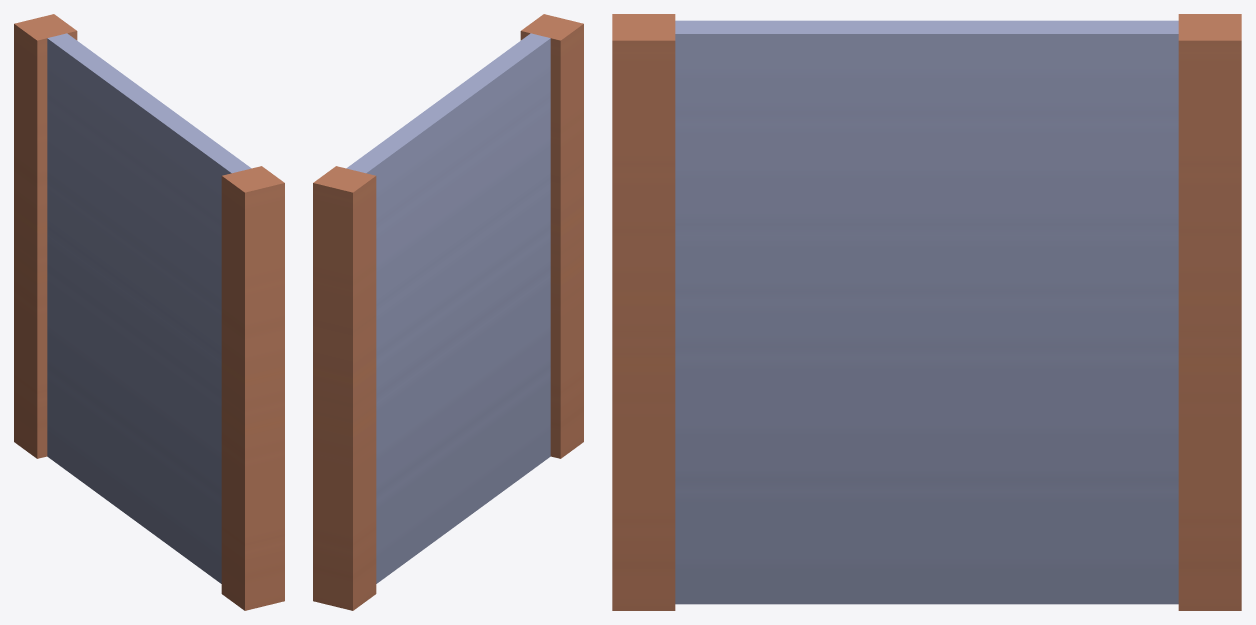
The model's file is wall.fbx.
The picture shows the model from 3 angles, left to right: view 1: azimuth 30°, elevation 25°; view 2: azimuth 150°, elevation 25°; view 3: azimuth 270°, elevation 25°; orthographic projection. The views are drawn at different scales.
Visible parts, largest first — view 1: wall; view 2: wall; view 3: wall.
Boxes of the visible parts, x1,y1,x2,y2 form: wall: [14, 14, 284, 610]; wall: [313, 14, 583, 610]; wall: [612, 14, 1241, 610].
Size of the model in its own units: 10 by 100 by 100.
1 material, 1 textured.
